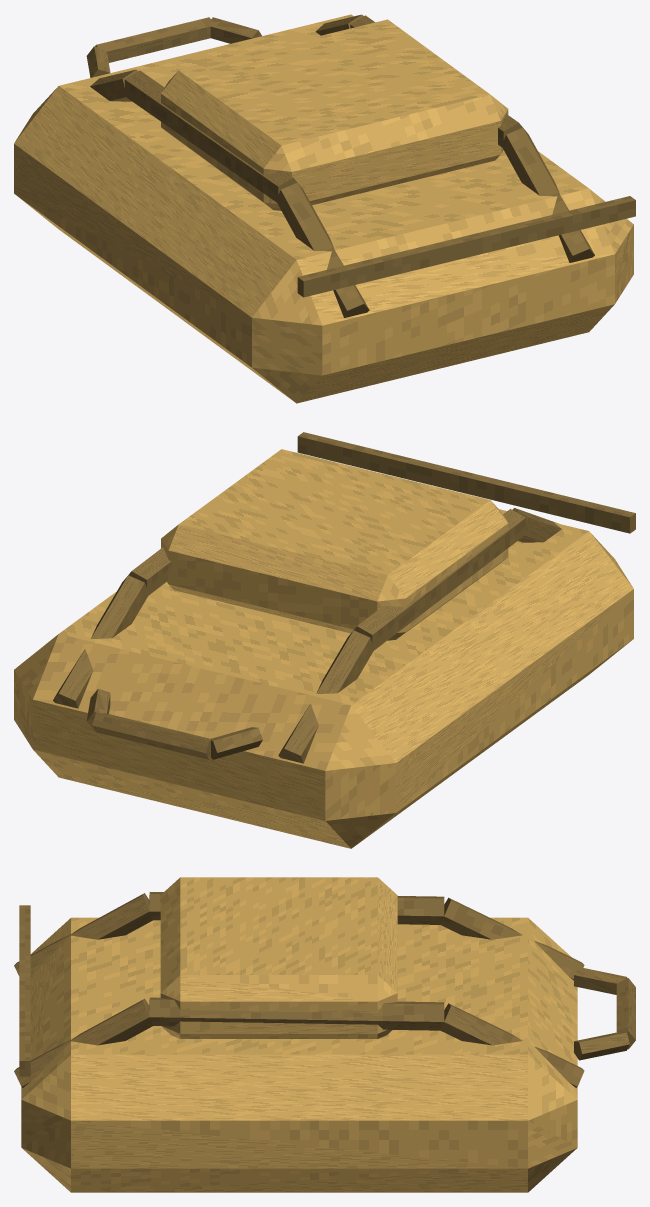
Rendered from travelpack.glb.
The picture shows the model from 3 angles, top to bottom: view 1: azimuth 30°, elevation 25°; view 2: azimuth 150°, elevation 25°; view 3: azimuth 270°, elevation 25°; orthographic projection. The views are drawn at different scales.
Parts seen in each view (by area): view 1: block_bag shell, block_front pocket, block_zipper, block_webbing strap 2 (×2), block_webbing strap 1 (×2), block_carry handle 1, block_carry handle 2, block_webbing strap 0, block_carry handle 0; view 2: block_bag shell, block_front pocket, block_zipper, block_webbing strap 0 (×2), block_webbing strap 1 (×2), block_carry handle 1, block_carry handle 0, block_webbing strap 2; view 3: block_bag shell, block_front pocket, block_webbing strap 1 (×2), block_webbing strap 2 (×2), block_webbing strap 0 (×2), block_zipper, block_carry handle 1, block_carry handle 2, block_carry handle 0.
Part boxes in pixels (<box>): block_bag shell: <box>14,14,633,403</box>; block_front pocket: <box>161,19,508,210</box>; block_zipper: <box>297,196,635,297</box>; block_webbing strap 2 (×2): <box>276,127,594,317</box>; block_webbing strap 1 (×2): <box>124,15,523,203</box>; block_carry handle 1: <box>95,17,210,62</box>; block_carry handle 2: <box>210,17,261,43</box>; block_webbing strap 0: <box>90,69,138,101</box>; block_carry handle 0: <box>86,46,110,77</box>; block_bag shell: <box>14,509,633,848</box>; block_front pocket: <box>161,449,508,640</box>; block_zipper: <box>297,432,635,533</box>; block_webbing strap 0 (×2): <box>53,575,374,763</box>; block_webbing strap 1 (×2): <box>128,509,525,650</box>; block_carry handle 1: <box>92,713,210,759</box>; block_carry handle 0: <box>211,727,262,759</box>; block_webbing strap 2: <box>512,508,561,542</box>; block_bag shell: <box>21,917,577,1192</box>; block_front pocket: <box>160,877,397,1038</box>; block_webbing strap 1 (×2): <box>149,892,444,1030</box>; block_webbing strap 2 (×2): <box>14,893,152,1087</box>; block_webbing strap 0 (×2): <box>440,897,584,1087</box>; block_zipper: <box>19,905,30,1076</box>; block_carry handle 1: <box>616,978,635,1049</box>; block_carry handle 2: <box>574,1032,629,1060</box>; block_carry handle 0: <box>574,967,627,994</box>.
Size of the model in its own units: 0.233 by 0.1202 by 0.342.
Materials: 1 (1 with a texture image).
